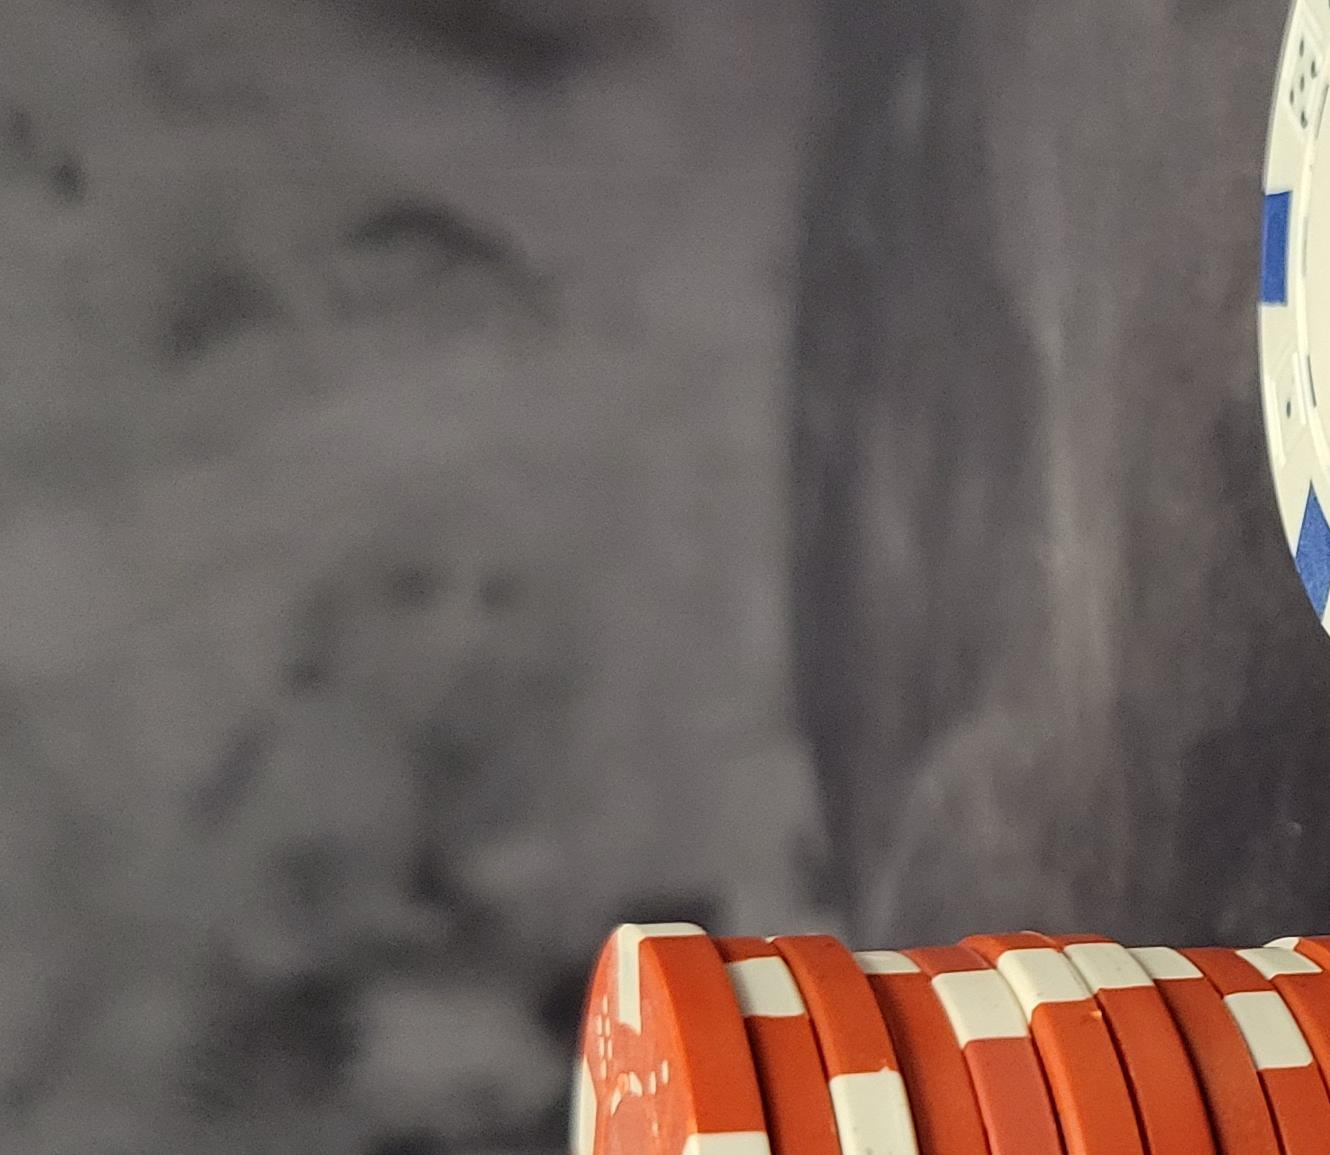Chip: (1, 242, 850, 1155)
